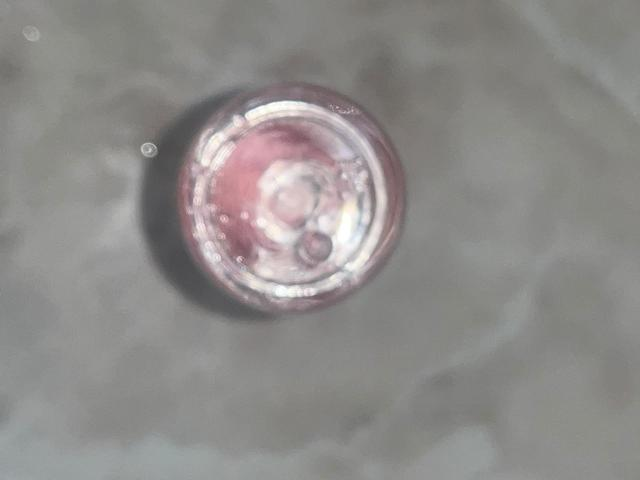PET: (151, 74, 435, 362)
